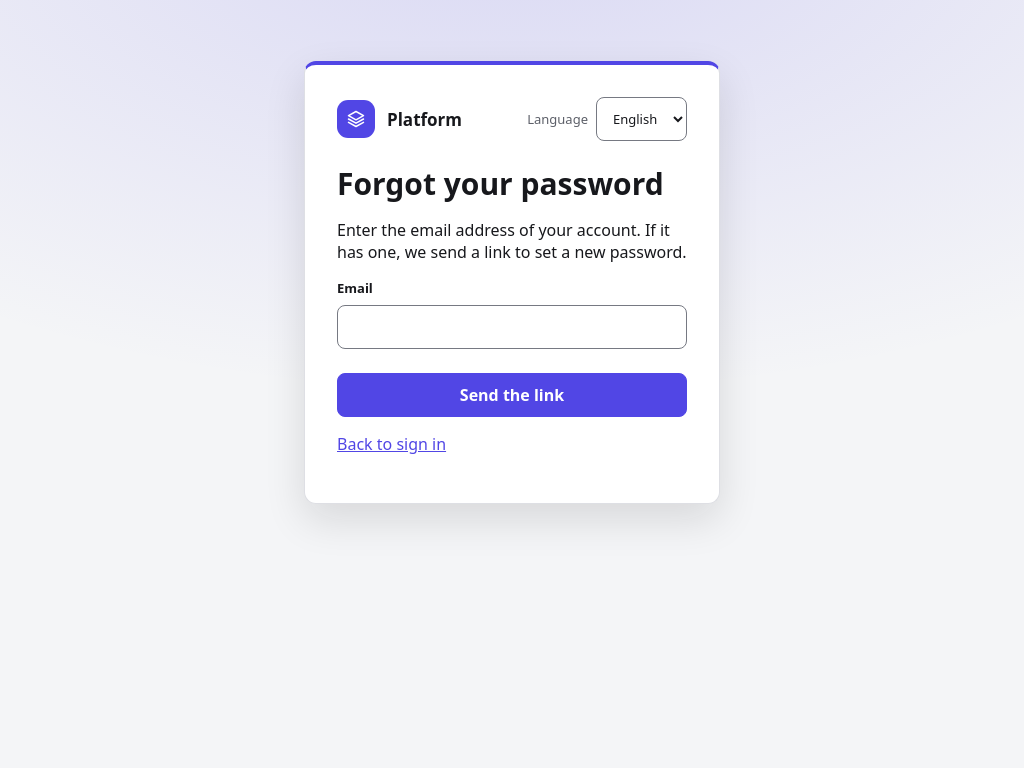
Scenario: forgot — one answer for every address (Amendment 01 §5.1) › leaves the screen where it is: no redirect carries the answer
Type "someone@example.test" into the field labelled "Email" at (512,327), box [337, 305, 687, 349]
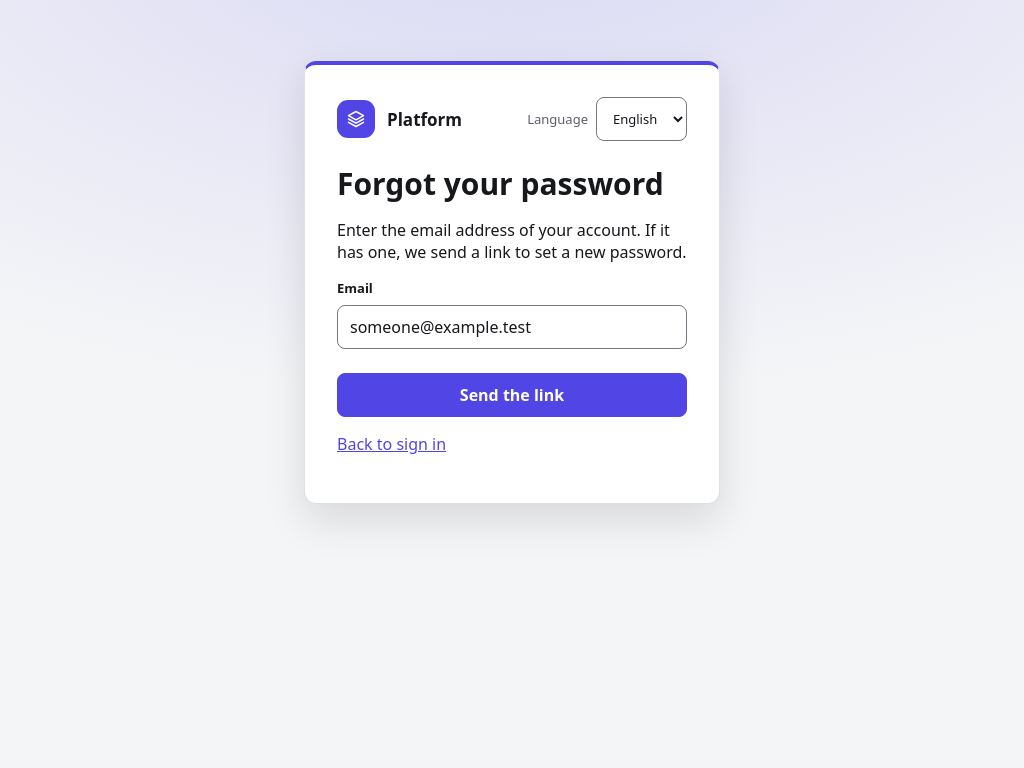
Click the button "Send the link" at (512,395), box [337, 373, 687, 417]
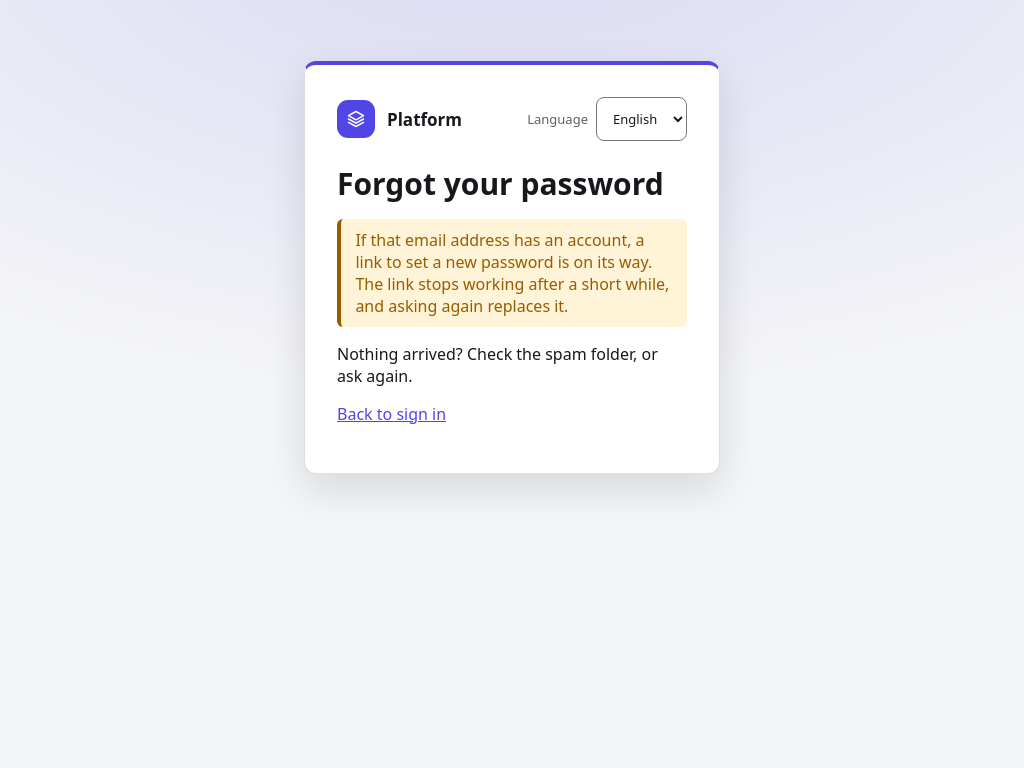
Result: the message is shown at [337, 219, 687, 327]
